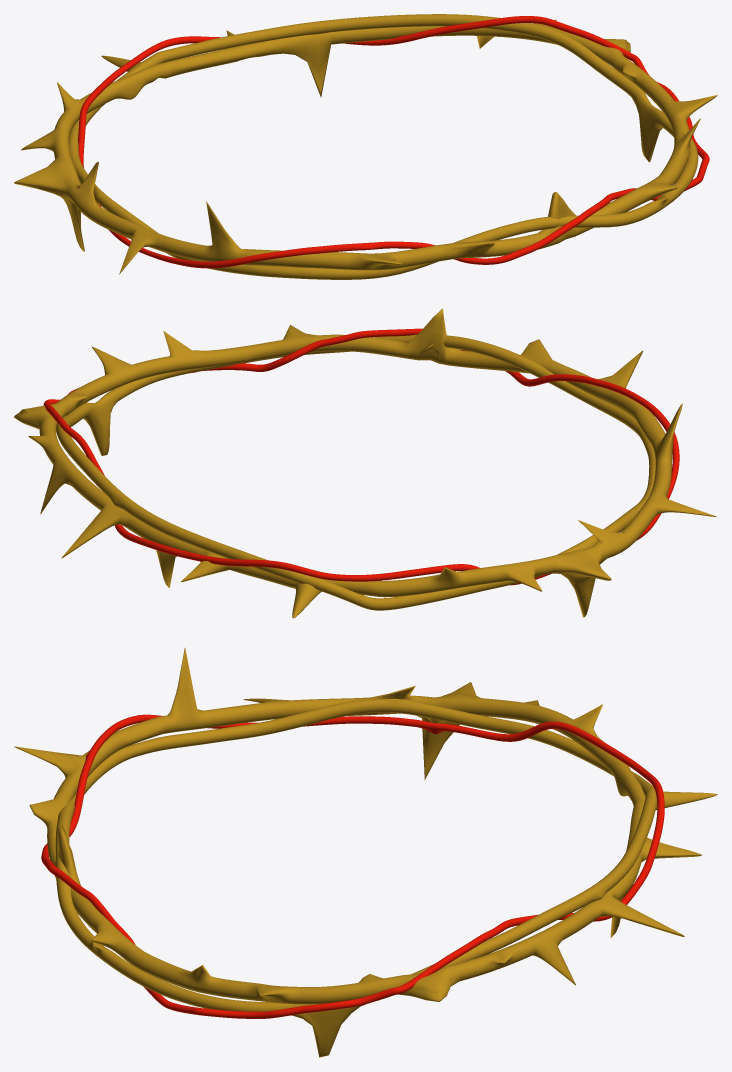
The model's file is Crown of thorns.fbx.
The picture shows the model from 3 angles, top to bottom: view 1: azimuth 30°, elevation 25°; view 2: azimuth 150°, elevation 25°; view 3: azimuth 270°, elevation 25°; orthographic projection. The views are drawn at different scales.
Visible parts, largest first — view 1: 16894_crown_Thorns_v2; view 2: 16894_crown_Thorns_v2; view 3: 16894_crown_Thorns_v2.
Boxes of the visible parts, left/top/right/bottom form: 16894_crown_Thorns_v2: left=14, top=14, right=717, bottom=279; 16894_crown_Thorns_v2: left=14, top=308, right=716, bottom=618; 16894_crown_Thorns_v2: left=14, top=647, right=717, bottom=1057.
Size of the model in its own units: 26.45 by 5.37 by 24.28.
